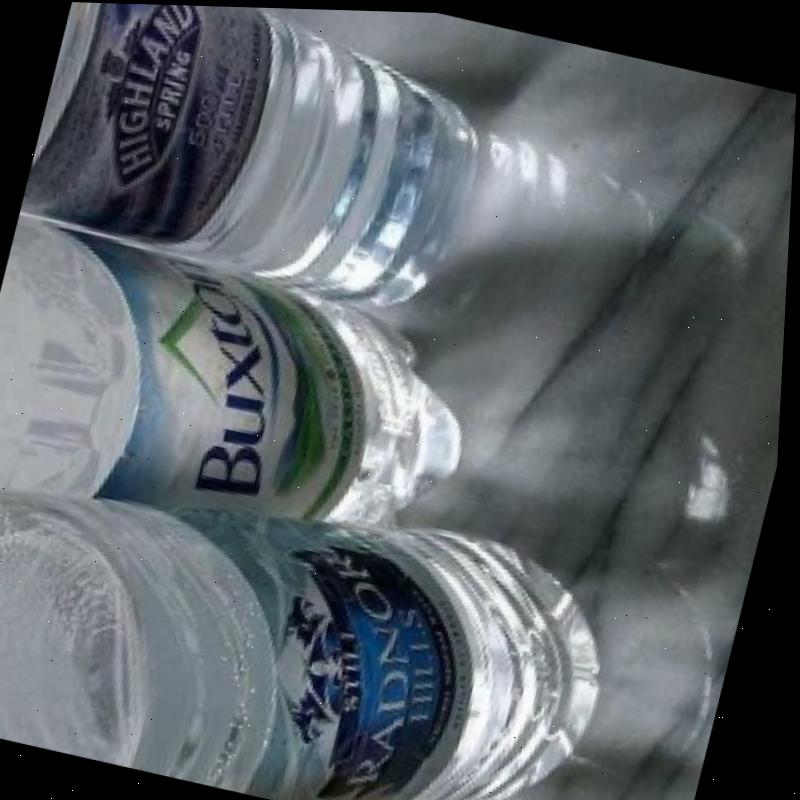botella: (0, 422, 640, 800), (0, 218, 503, 594), (17, 1, 501, 307)
